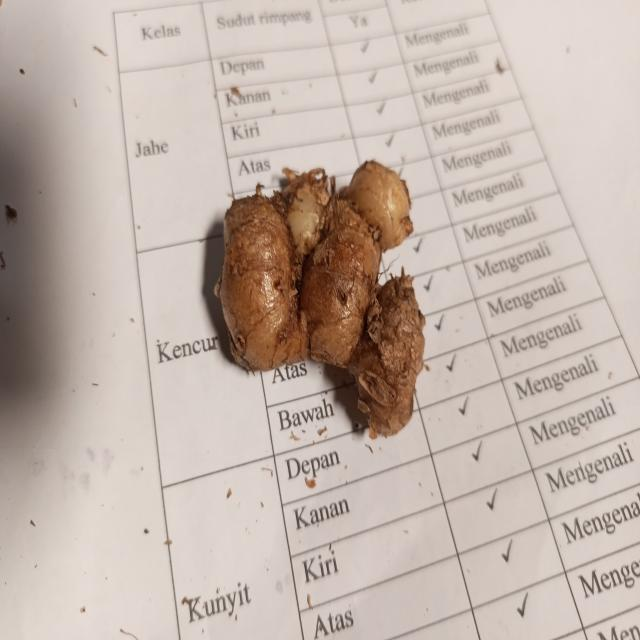ginger: (228, 143, 426, 419)
